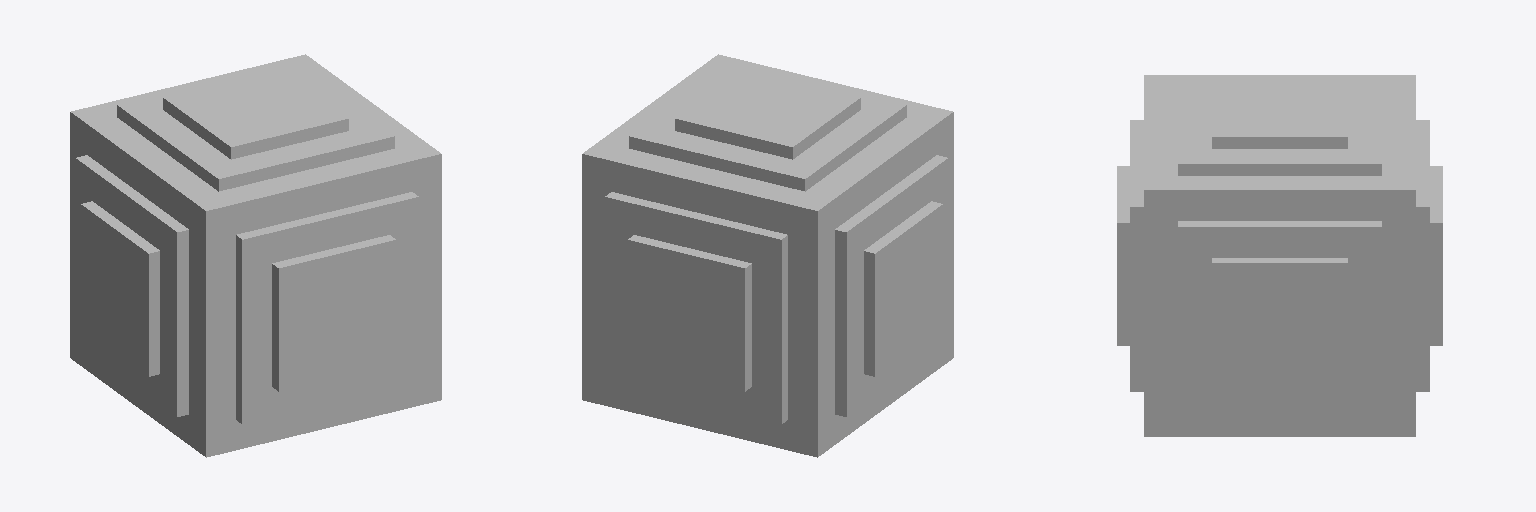
The model's file is rock2.obj.
The picture shows the model from 3 angles: view 1: azimuth 30°, elevation 25°; view 2: azimuth 150°, elevation 25°; view 3: azimuth 270°, elevation 25°; orthographic projection.
Parts seen in each view (by area): view 1: Cube.001_Cube.006, Cube.002_Cube.007; view 2: Cube.001_Cube.006, Cube.002_Cube.007; view 3: Cube.001_Cube.006, Cube.002_Cube.007.
Part boxes in pixels (x1,y1,x2,y2): Cube.001_Cube.006: (70,54,441,456); Cube.002_Cube.007: (70,55,441,457); Cube.001_Cube.006: (582,54,953,457); Cube.002_Cube.007: (582,56,953,455); Cube.001_Cube.006: (1117,75,1442,436); Cube.002_Cube.007: (1144,75,1415,436).
Bounding box in the file's own units: 1.2 × 1.2 × 1.2.